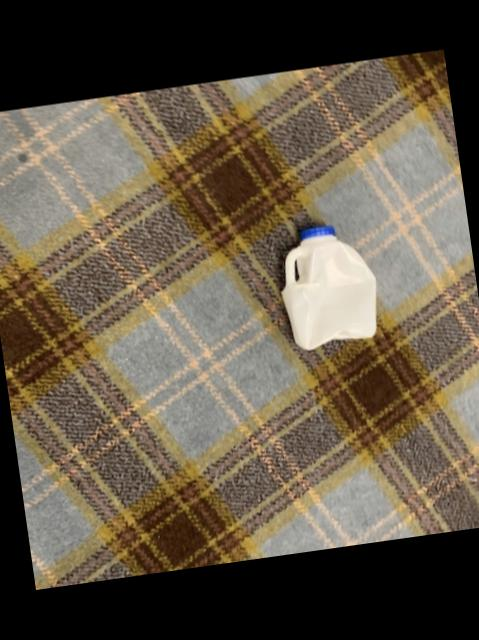plastic: (282, 225, 376, 348)
